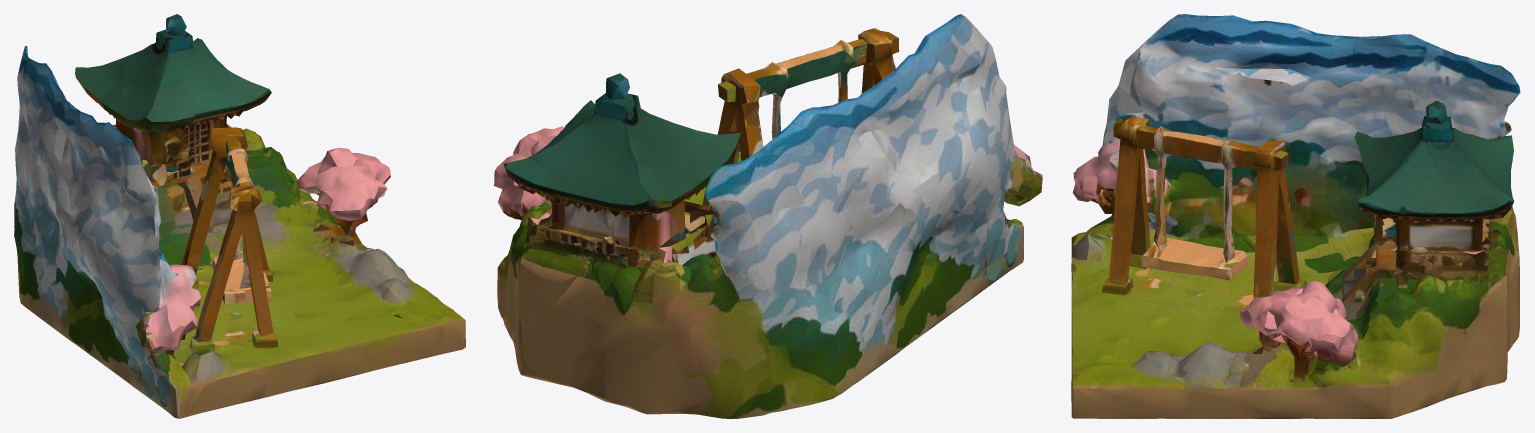
File: unpenji.glb
3 views of the same model, side by side, from view 1: azimuth 30°, elevation 25°; view 2: azimuth 150°, elevation 25°; view 3: azimuth 270°, elevation 25° (orthographic). The views are drawn at different scales.
Visible parts, largest first — view 1: logan-textured.obj; view 2: logan-textured.obj; view 3: logan-textured.obj.
Part boxes in pixels (bbox=[...]): logan-textured.obj: bbox=[14, 14, 465, 418]; logan-textured.obj: bbox=[494, 14, 1042, 418]; logan-textured.obj: bbox=[1071, 14, 1520, 418].
Size of the model in its own units: 0.9431 by 0.6342 by 1.
1 material, 1 textured.
